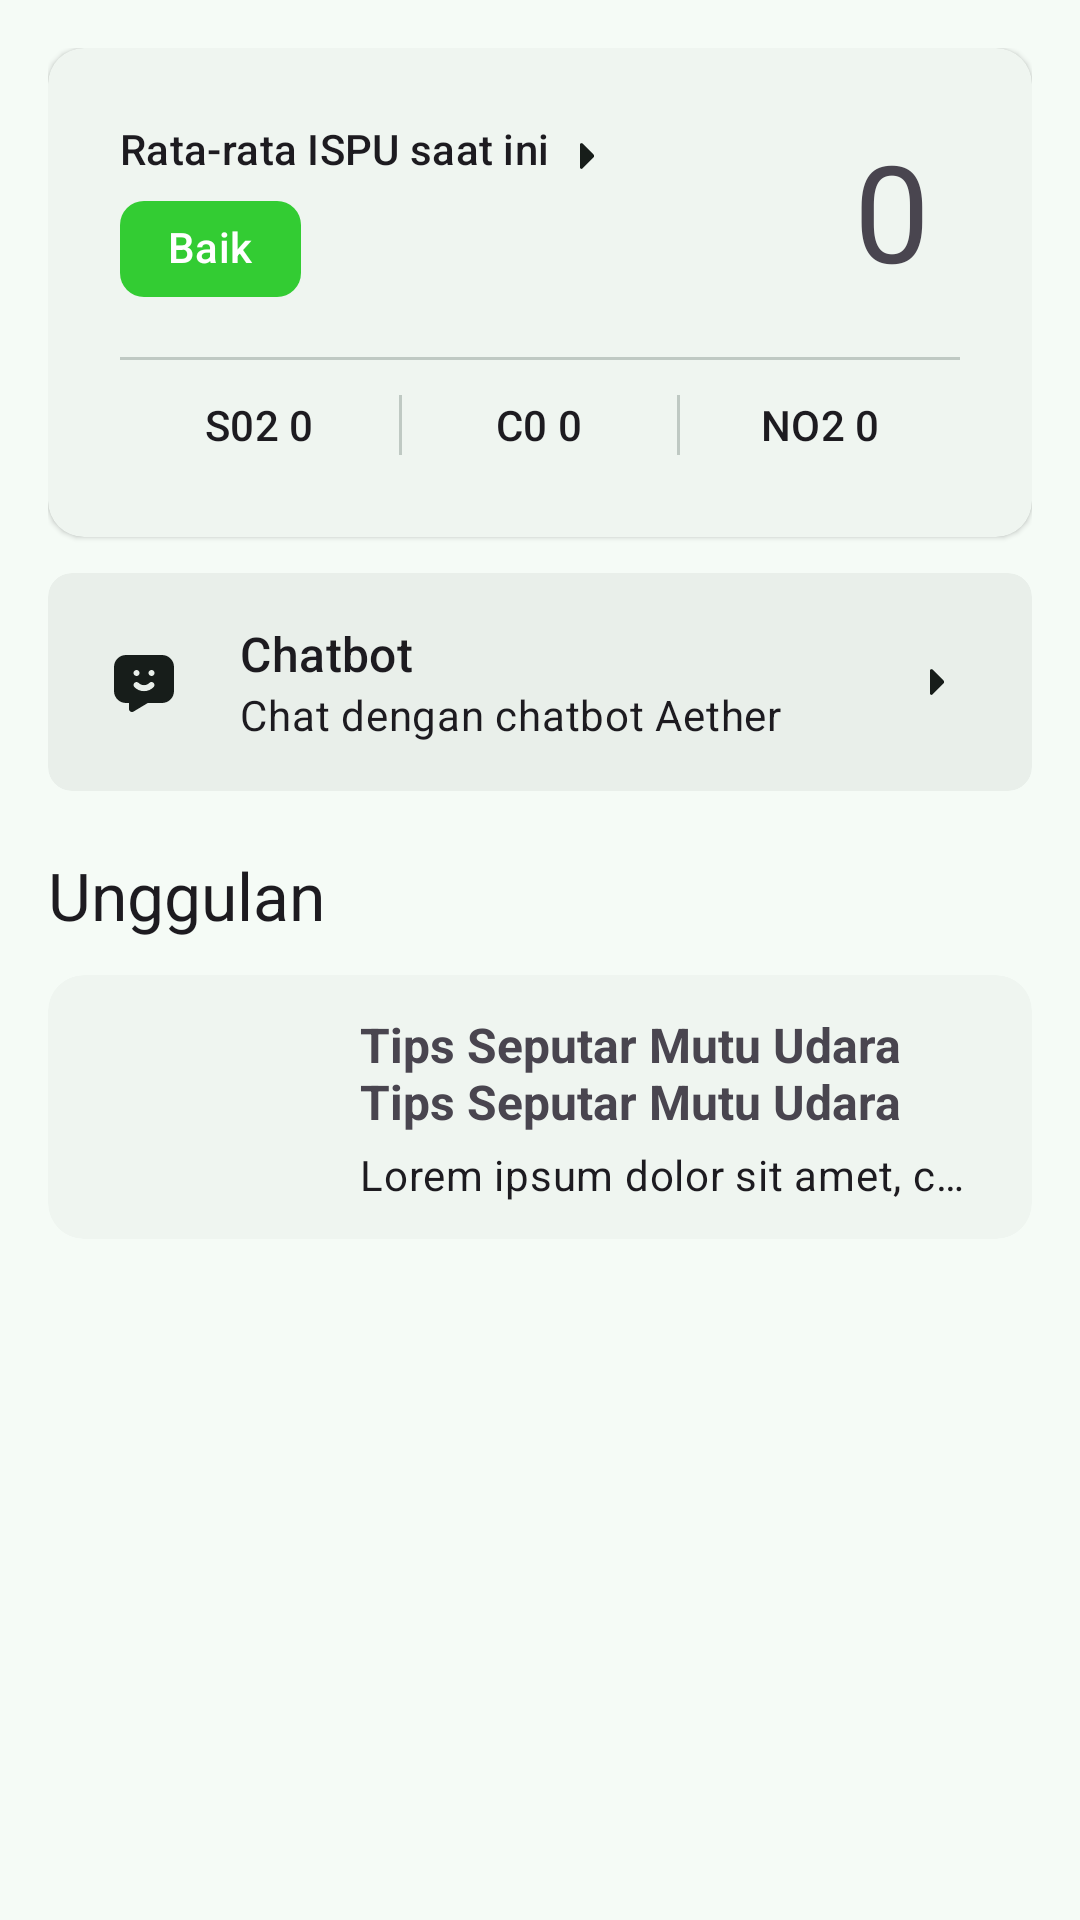

Point at icon controls on the screen. Image size 1080×1920, points as [x,y].
arrow right: [587,156], [937,682]
